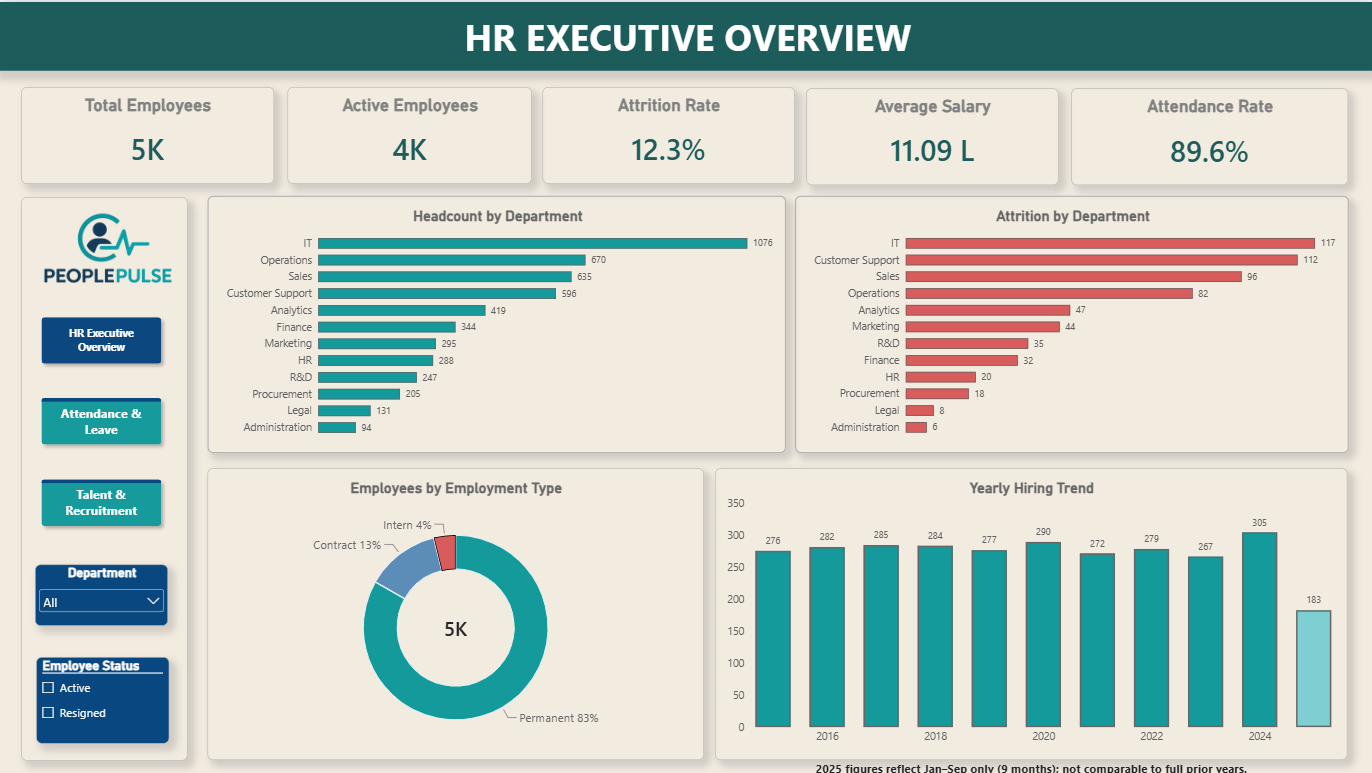

The dashboard page shown, as its layout file describes it:
{"tool":"powerbi","page":{"name":"HR Executive Overview","canvas":[1920,1080],"ordinal":0},"visuals":[{"type":"actionButton","box":[0,0,100,40],"z":0},{"type":"cardVisual","title":"Active Employees","fields":{"Data":["Employee_Clean.Active Employees"]},"box":[400.4,118.6,341,135.5],"z":1000},{"type":"cardVisual","title":"Total Employees","fields":{"Data":["Employee_Clean.Total Employees"]},"box":[29.3,118.6,352.6,135.5],"z":2000},{"type":"cardVisual","title":"Attrition Rate","fields":{"Data":["Employee_Clean.Attrition Rate"]},"box":[756.1,118.6,352,135],"z":3000},{"type":"cardVisual","title":"Attendance Rate","fields":{"Data":["attendance.Attendance Rate"]},"box":[1495.3,120.1,386.5,135.5],"z":4000},{"type":"cardVisual","title":"Average Salary","fields":{"Data":["Employee_Clean.Average Salary (Display)"]},"box":[1124.2,120.1,352,135],"z":5000},{"type":"clusteredBarChart","title":"Headcount by Department","fields":{"Category":["departments.Department_Name"],"Y":["CountNonNull(Employee_Clean.Employee_Id)"]},"box":[289.5,270.3,807.6,359.3],"z":6000},{"type":"clusteredBarChart","title":"Attrition by Department","fields":{"Category":["departments.Department_Name"],"Y":["Employee_Clean.Resigned Employees"]},"box":[1108.8,271,773.1,358.8],"z":7000},{"type":"donutChart","title":"Employees by Employment Type","fields":{"Category":["Employee_Clean.Employment_Type"],"Y":["CountNonNull(Employee_Clean.Employee_Id)"]},"box":[290.1,651.1,692.9,407],"z":8000},{"type":"clusteredColumnChart","title":"Yearly Hiring Trend","fields":{"Category":["recruitment.Joining_Date.Variation.Date Hierarchy.Year"],"Y":["CountNonNull(recruitment.Employee_Id)"]},"box":[997.6,651.1,882.8,407],"z":9000},{"type":"shape","box":[29.2,271.3,231.7,786.8],"z":10000},{"type":"textbox","box":[960,1058.1,960,23],"z":11000},{"type":"shape","box":[0,0,1920,96],"z":12000},{"type":"image","box":[29.2,248.3,241.8,203.3],"z":13000},{"type":"slicer","title":"Department","fields":{"Values":["departments.Department_Name"]},"box":[49.4,784.2,185.7,85.6],"z":14000},{"type":"slicer","fields":{"Values":["Employee_Clean.Employee_Status"]},"box":[50.1,914.1,185.7,121],"z":15000},{"type":"pageNavigator","box":[49.4,430.2,185.2,310.8],"z":16000}]}

Visuals, with their boxes in screenshot pixels (x1, y1, x2, y2), scaled from the page's 1920x1080 canvas onto the 1372x773 screenshot:
actionButton: select_region(0, 0, 71, 29)
"Active Employees" cardVisual: select_region(286, 85, 530, 182)
"Total Employees" cardVisual: select_region(21, 85, 273, 182)
"Attrition Rate" cardVisual: select_region(540, 85, 792, 182)
"Attendance Rate" cardVisual: select_region(1069, 86, 1345, 183)
"Average Salary" cardVisual: select_region(803, 86, 1055, 183)
"Headcount by Department" clusteredBarChart: select_region(207, 193, 784, 451)
"Attrition by Department" clusteredBarChart: select_region(792, 194, 1345, 451)
"Employees by Employment Type" donutChart: select_region(207, 466, 702, 757)
"Yearly Hiring Trend" clusteredColumnChart: select_region(713, 466, 1344, 757)
shape: select_region(21, 194, 186, 757)
textbox: select_region(686, 757, 1371, 772)
shape: select_region(0, 0, 1371, 69)
image: select_region(21, 178, 194, 323)
"Department" slicer: select_region(35, 561, 168, 623)
slicer - Employee_Clean.Employee_Status: select_region(36, 654, 168, 741)
pageNavigator: select_region(35, 308, 168, 530)
